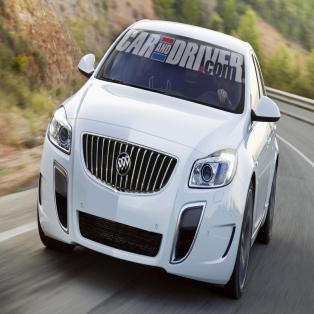Auto: (37, 18, 279, 298)
